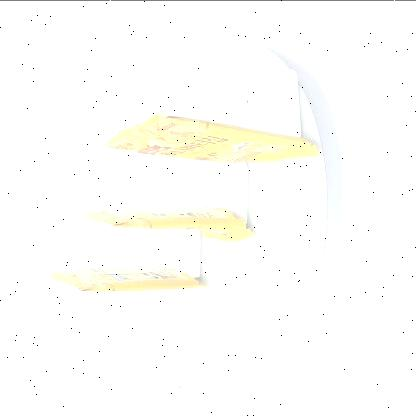Others: (40, 100, 330, 308)
